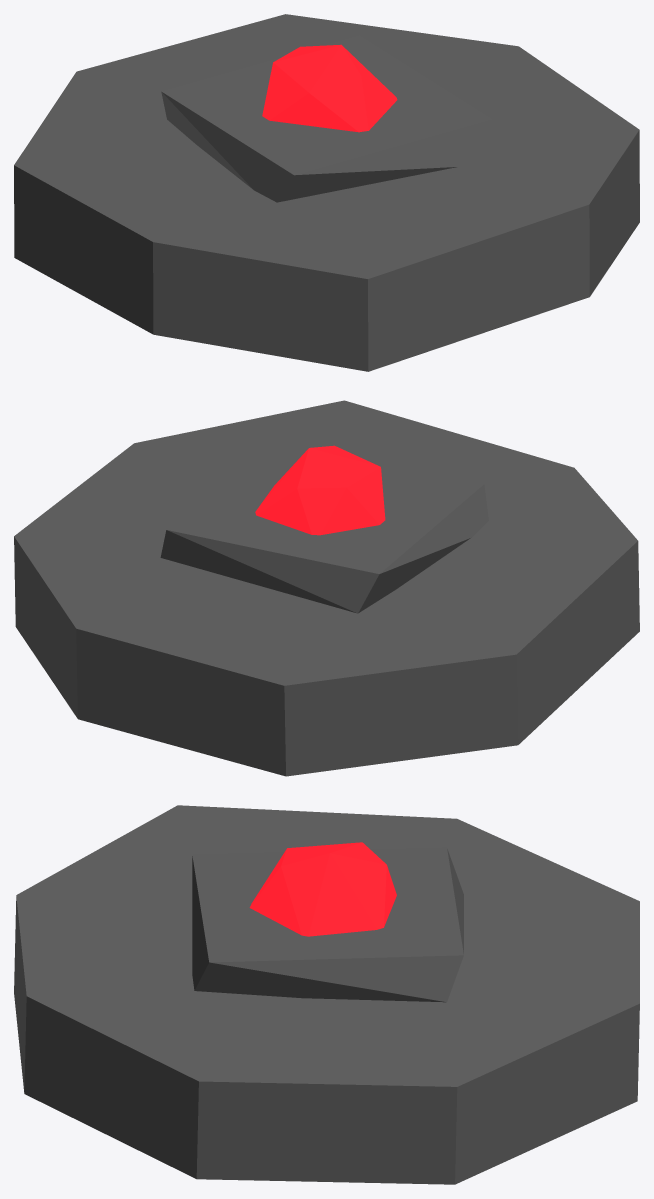
File: Landmine.glb
3 renders of one model, top to bottom at view 1: azimuth 30°, elevation 25°; view 2: azimuth 150°, elevation 25°; view 3: azimuth 270°, elevation 25°, orthographic. The views are drawn at different scales.
Parts seen in each view (by area): view 1: Mine; view 2: Mine; view 3: Mine.
Part boxes in pixels (x1,y1,x2,y2): Mine: (14,14,639,371); Mine: (14,400,639,776); Mine: (14,805,639,1184).
Size of the model in its own units: 0.3252 by 0.1201 by 0.3259.
